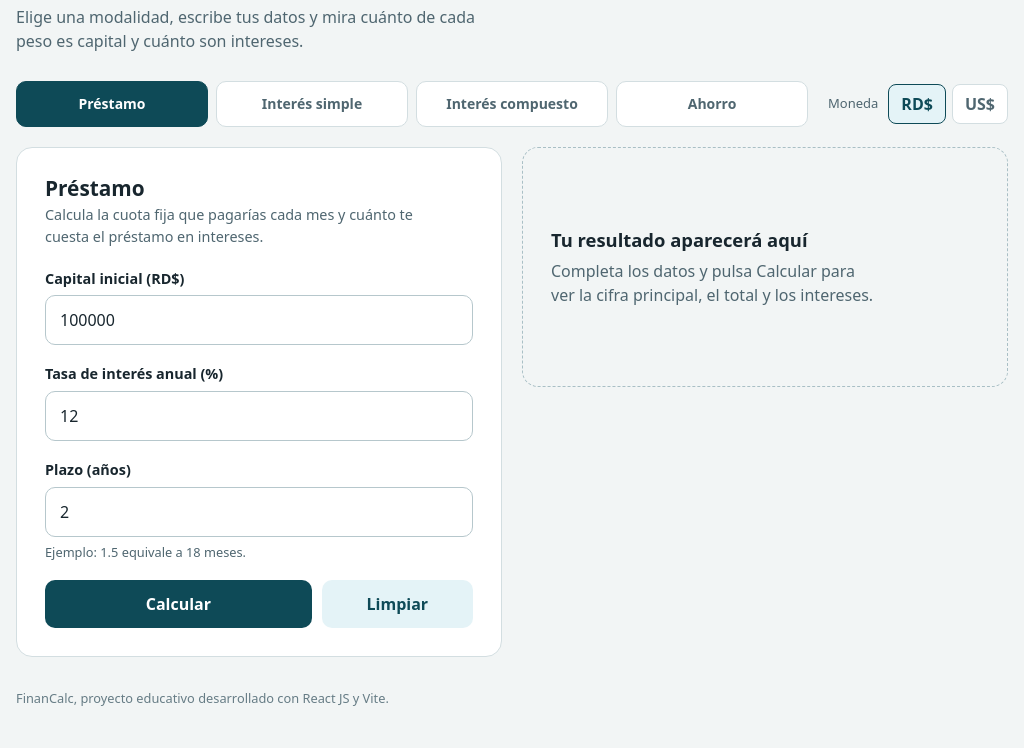
it: FinanCalc › calcula la cuota de un préstamo sin recargar la página
(page scrolled)
Click the button "Calcular" at (178, 604), box [45,580,312,628]
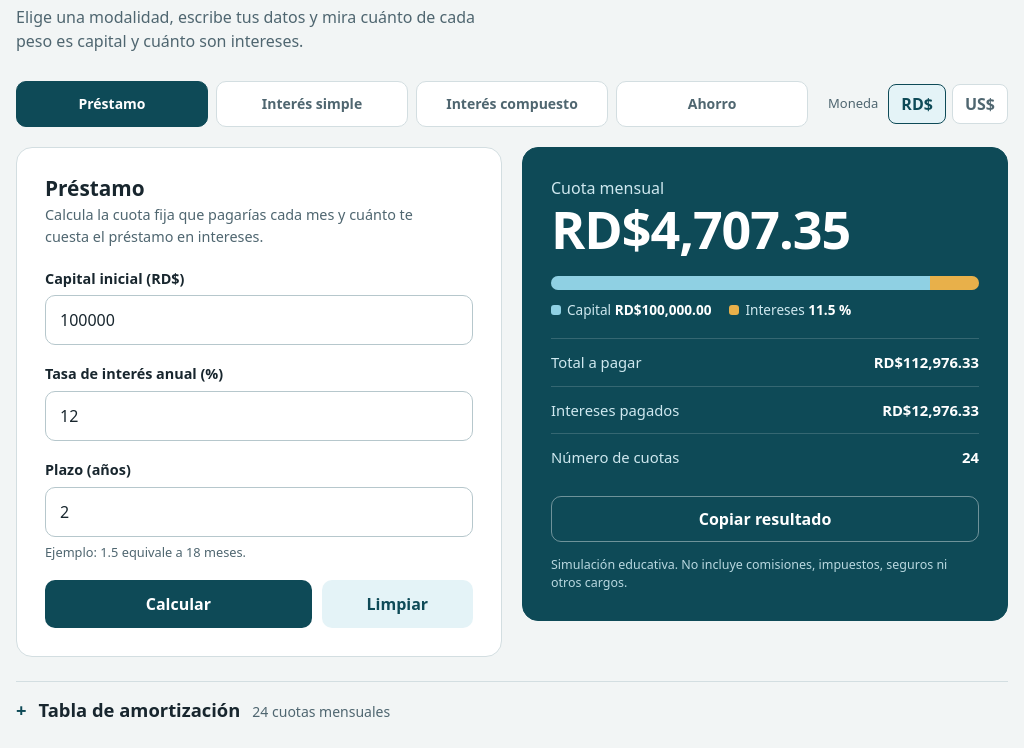
Check: the text "RD$4,707.35" is shown, box [551,192,850,264]
